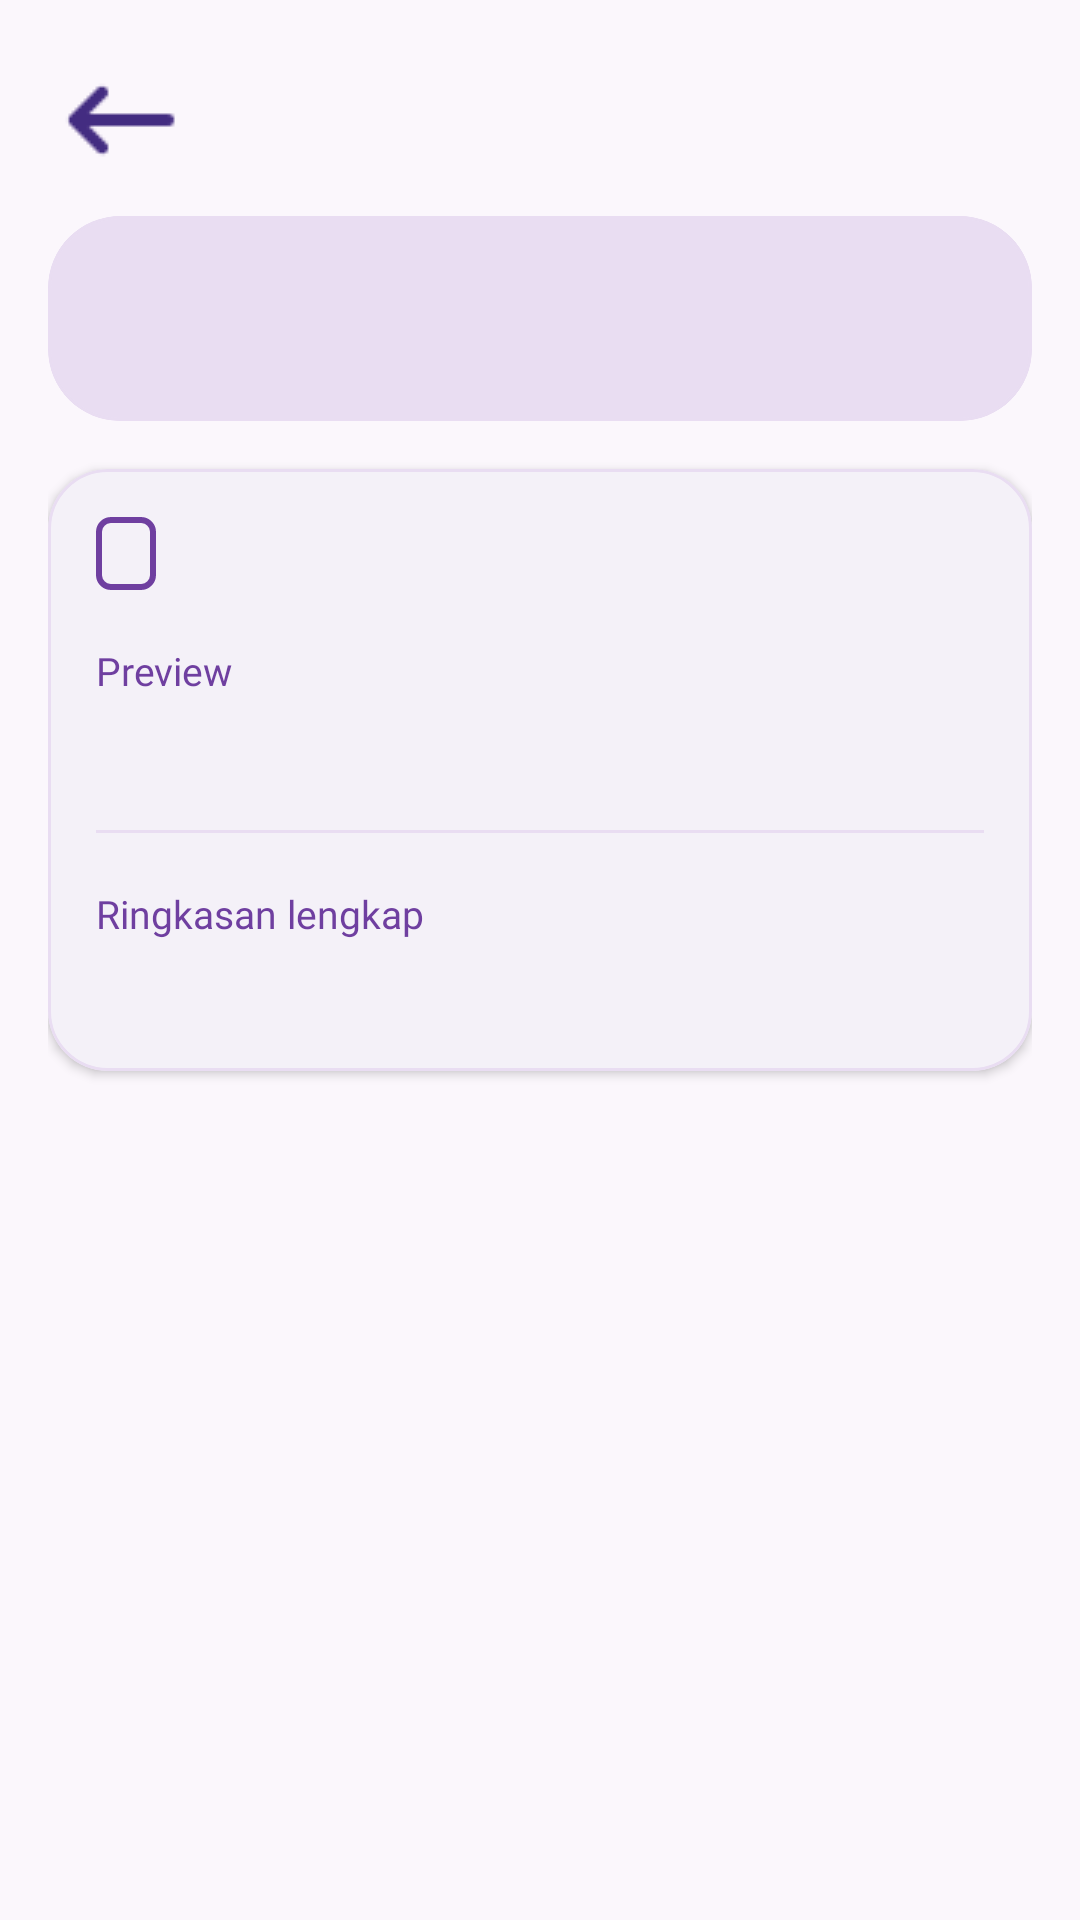

Icons on this 1080w x 1920h Android screen, each with its box as bbox=[x1, y1, x2, y2]:
Kembali: bbox=[68, 86, 175, 155]
